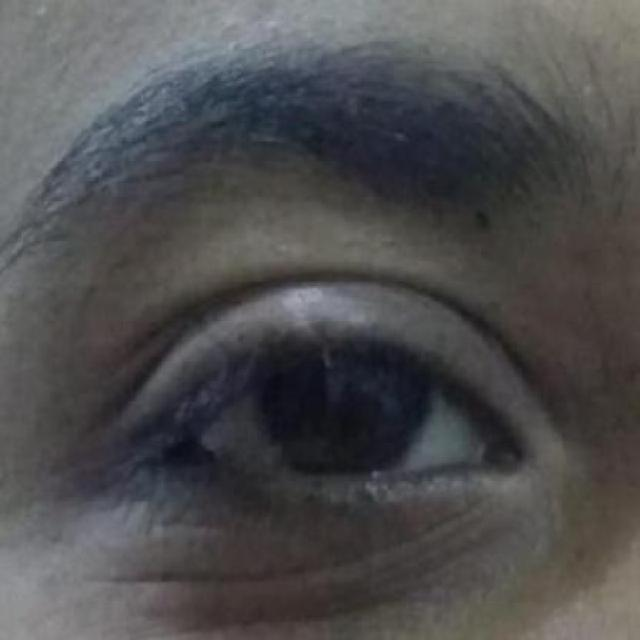awake: (209, 347, 489, 482)
